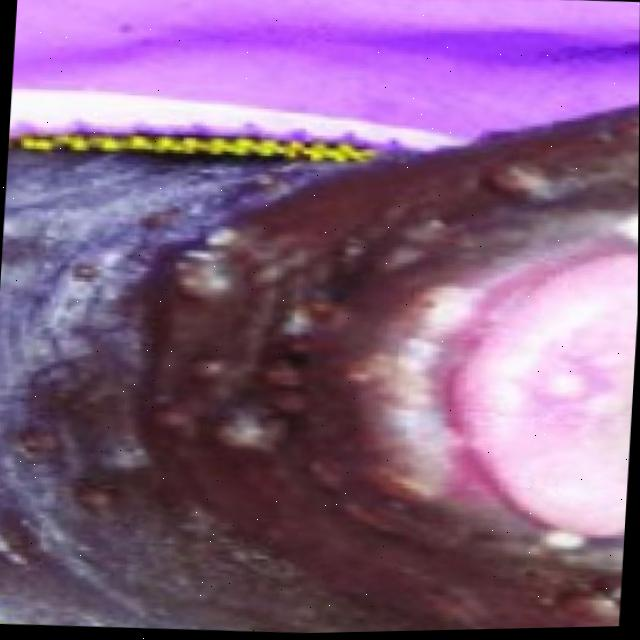Eczema: (111, 153, 571, 637)
